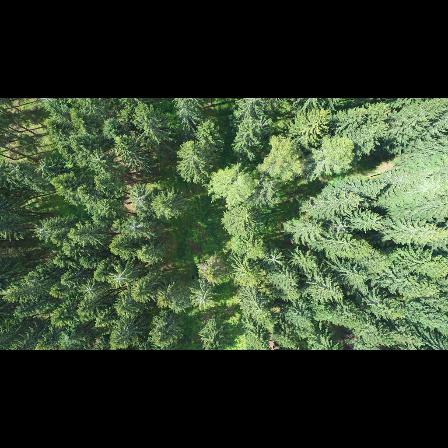Sick: (190, 284, 214, 312), (129, 184, 153, 209), (32, 220, 58, 243), (126, 217, 150, 241), (262, 250, 289, 270), (108, 271, 133, 292), (80, 280, 100, 301)
